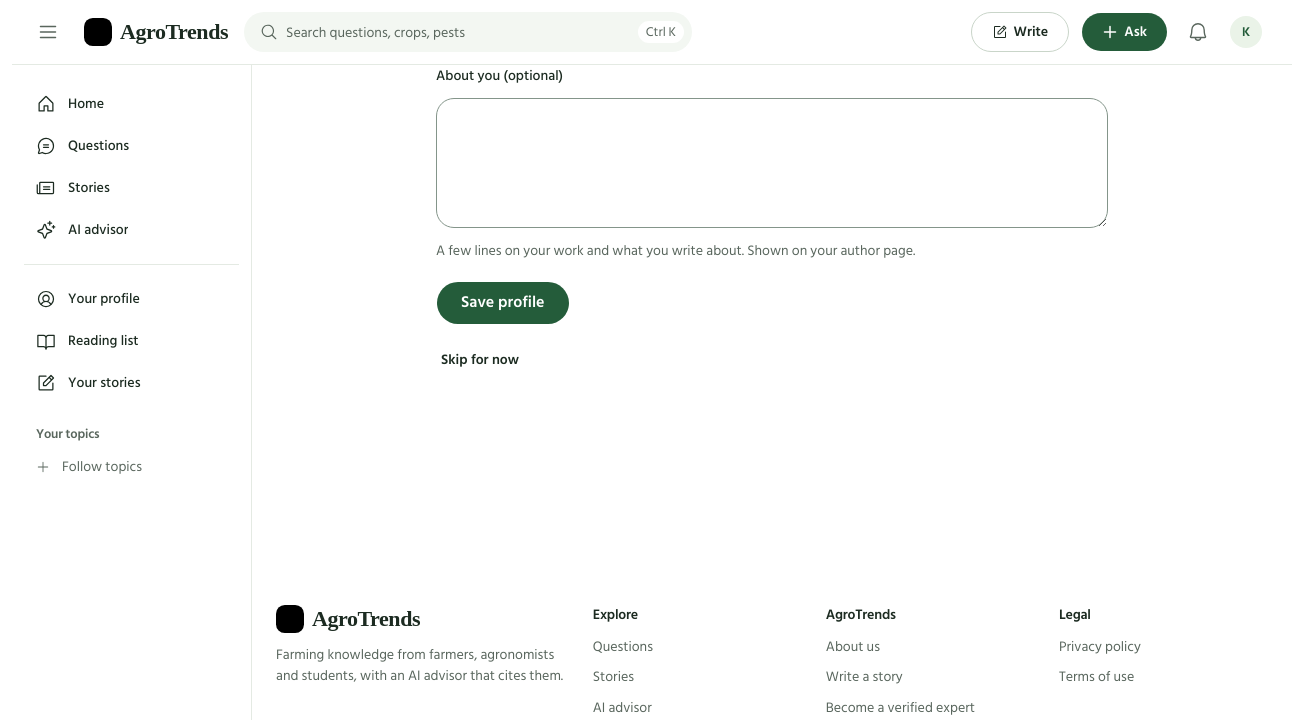
Scenario: the profile step after sign-up can be skipped
The width and height of the screenshot is (1292, 720).
(page scrolled)
Step 1. Click the link "Skip for now" → click(480, 360), box [441,348,519,372]
(page scrolled)
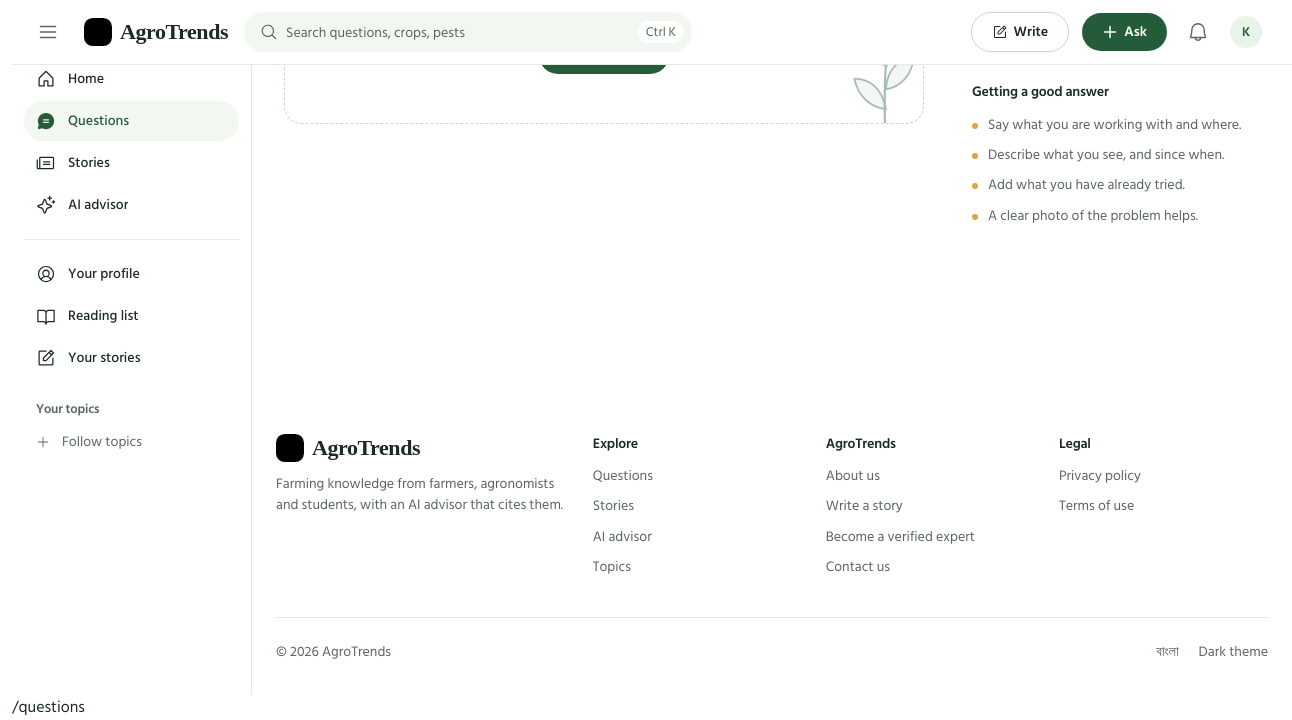
Expected: the text with test id "path" reads "/questions", [12,694,85,719]
